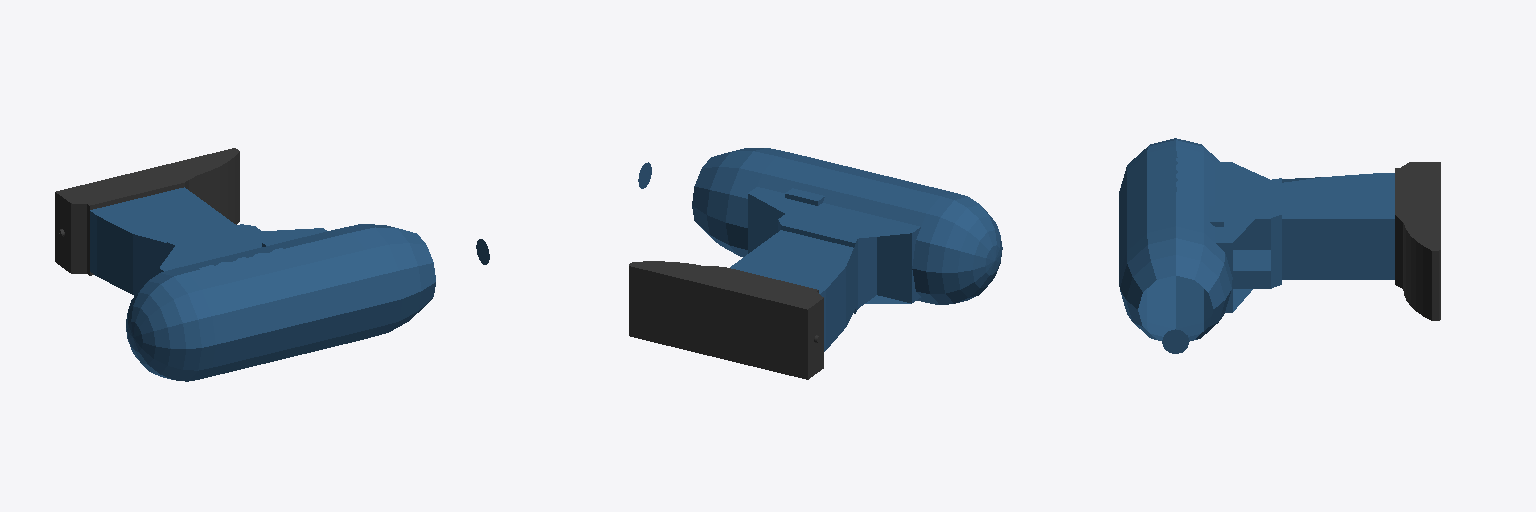
3 renders of one model, left to right at view 1: azimuth 30°, elevation 25°; view 2: azimuth 150°, elevation 25°; view 3: azimuth 270°, elevation 25°, orthographic.
Visible parts, largest first — view 1: Mesh8_BOSCH1_drill1_Model.001; view 2: Mesh8_BOSCH1_drill1_Model.001; view 3: Mesh8_BOSCH1_drill1_Model.001.
Part boxes in pixels (left/top/right/bottom): Mesh8_BOSCH1_drill1_Model.001: left=55, top=148, right=489, bottom=381; Mesh8_BOSCH1_drill1_Model.001: left=629, top=148, right=1002, bottom=379; Mesh8_BOSCH1_drill1_Model.001: left=1119, top=138, right=1440, bottom=353.
Size of the model in its own units: 0.2132 by 0.0605 by 0.17.